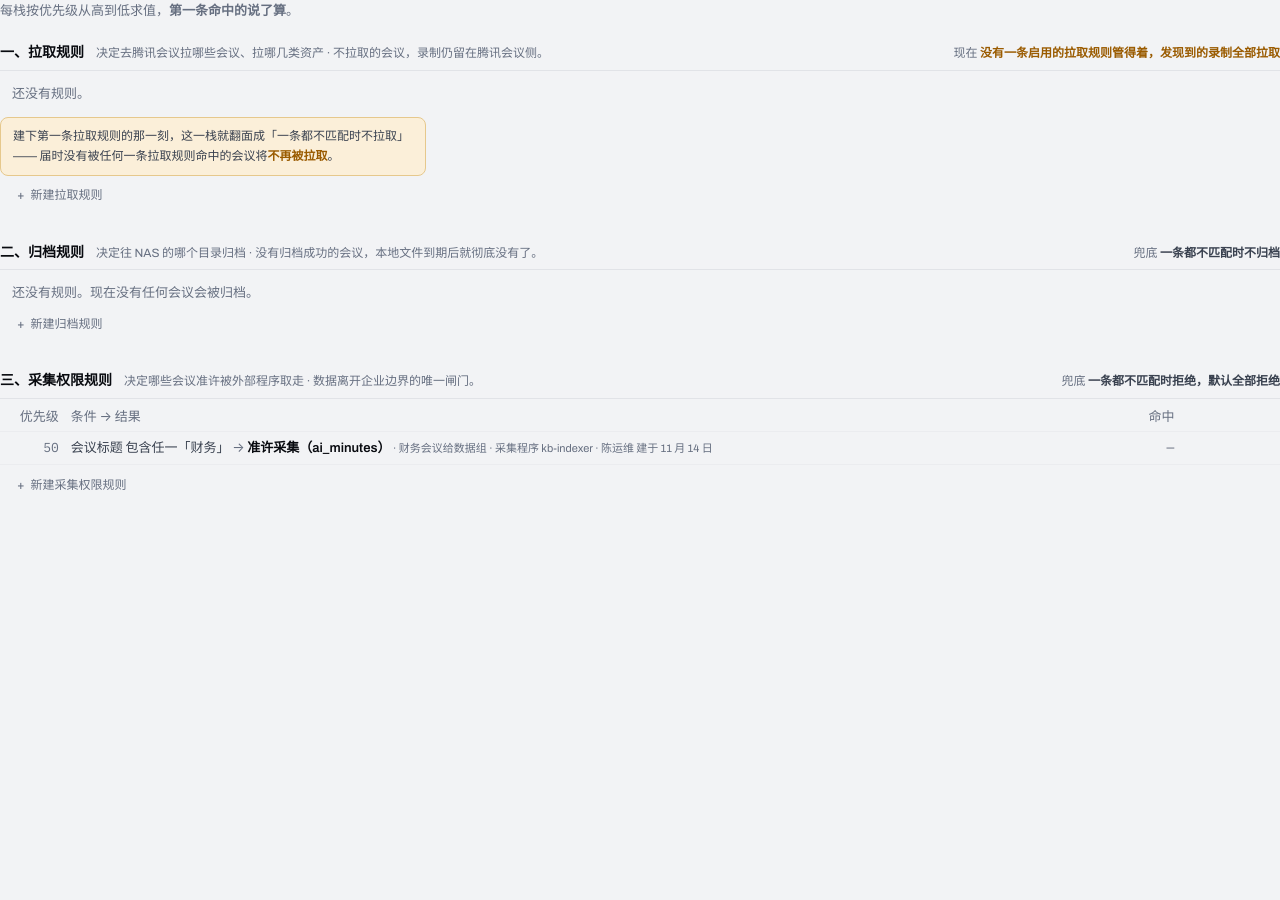
条件字段清单从后端拿，前端不留镜像 › 动作可选项与它下面那句解释都来自 schema
Expected: the heading "三、采集权限规则" is shown, [0,370,112,392]
Click the button "+ 新建采集权限规则". click: x=72, y=485
box: [8,471,136,499]
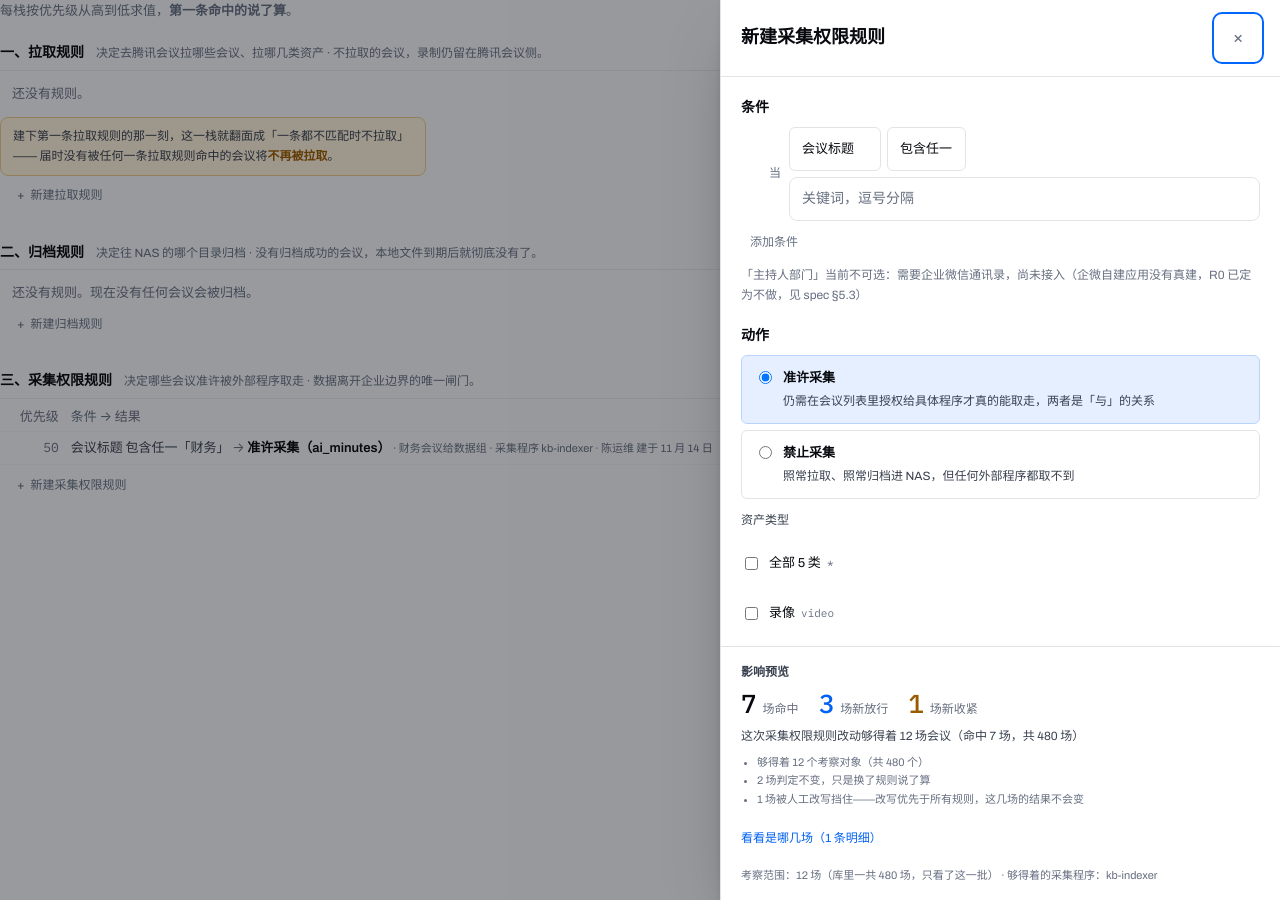
Expected: the dialog "新建采集权限规则" shows "准许采集", [783,371,835,385]
Expected: the dialog "新建采集权限规则" shows "仍需在会议列表里授权给具体程序才真的能取走", [783,394,1155,408]
